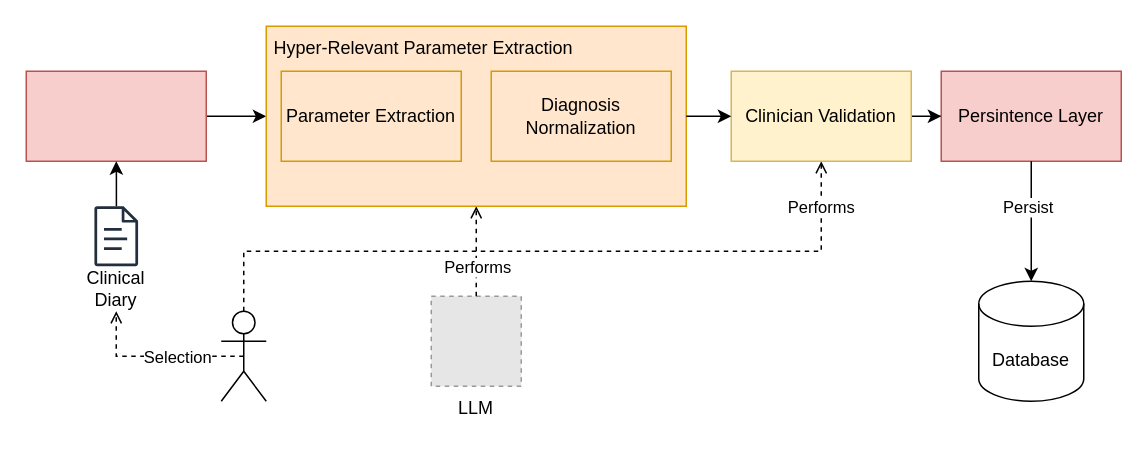
Image size: 1148x459. Some labels were removed from this diagram. Grey dashed boxes stand in for pictures. Each missing label, with the centre of its shape:
Clinician: point 243,355
Pre-Processing: point 115,115
